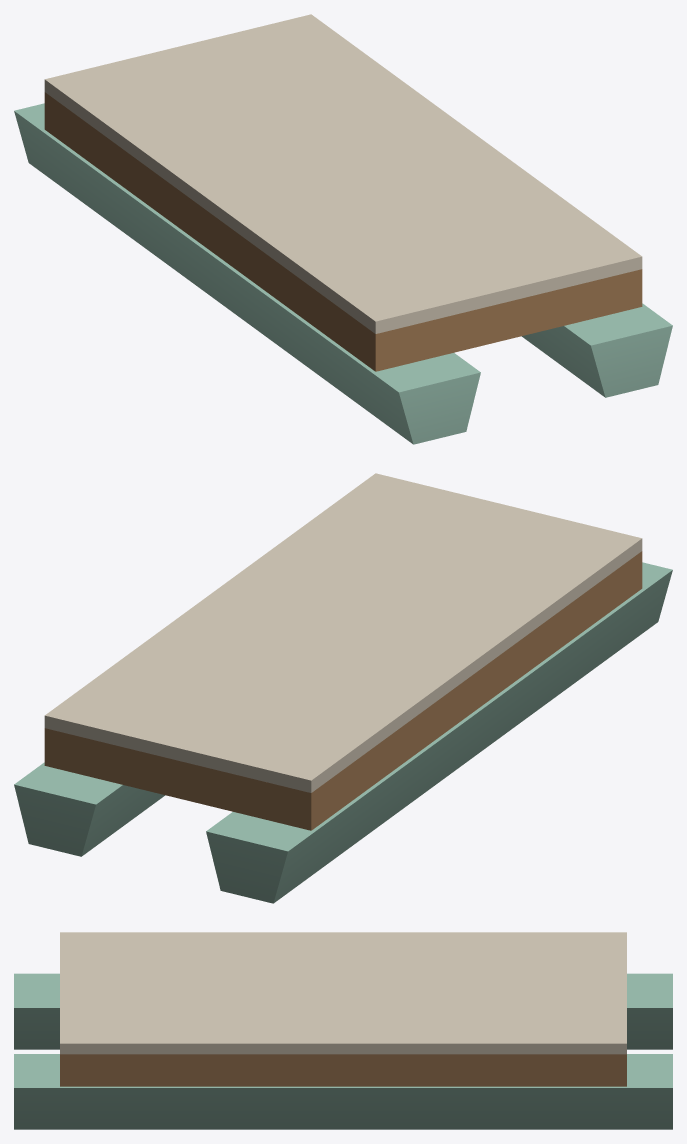
Rendered from road-float.glb.
The picture shows the model from 3 angles, top to bottom: view 1: azimuth 30°, elevation 25°; view 2: azimuth 150°, elevation 25°; view 3: azimuth 270°, elevation 25°; orthographic projection. The views are drawn at different scales.
Visible parts, largest first — view 1: root_mesh; view 2: root_mesh; view 3: root_mesh.
Part boxes in pixels (bbox=[...]): root_mesh: bbox=[14, 14, 672, 444]; root_mesh: bbox=[14, 473, 672, 903]; root_mesh: bbox=[14, 932, 672, 1129].
Bounding box in the file's own units: 0.9046 × 0.3344 × 2.2.
